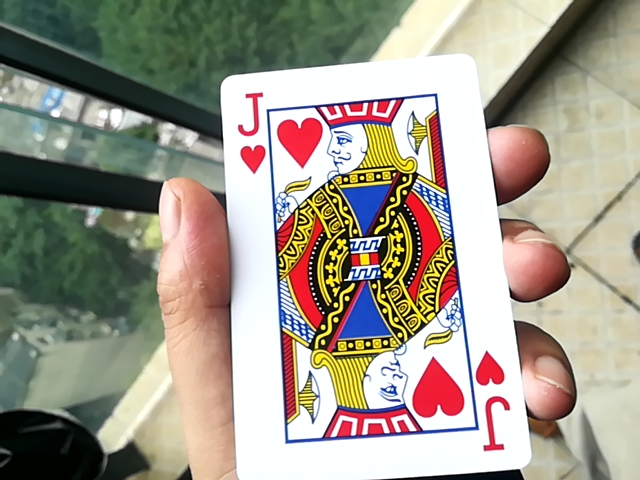hx j: (207, 39, 530, 480)
